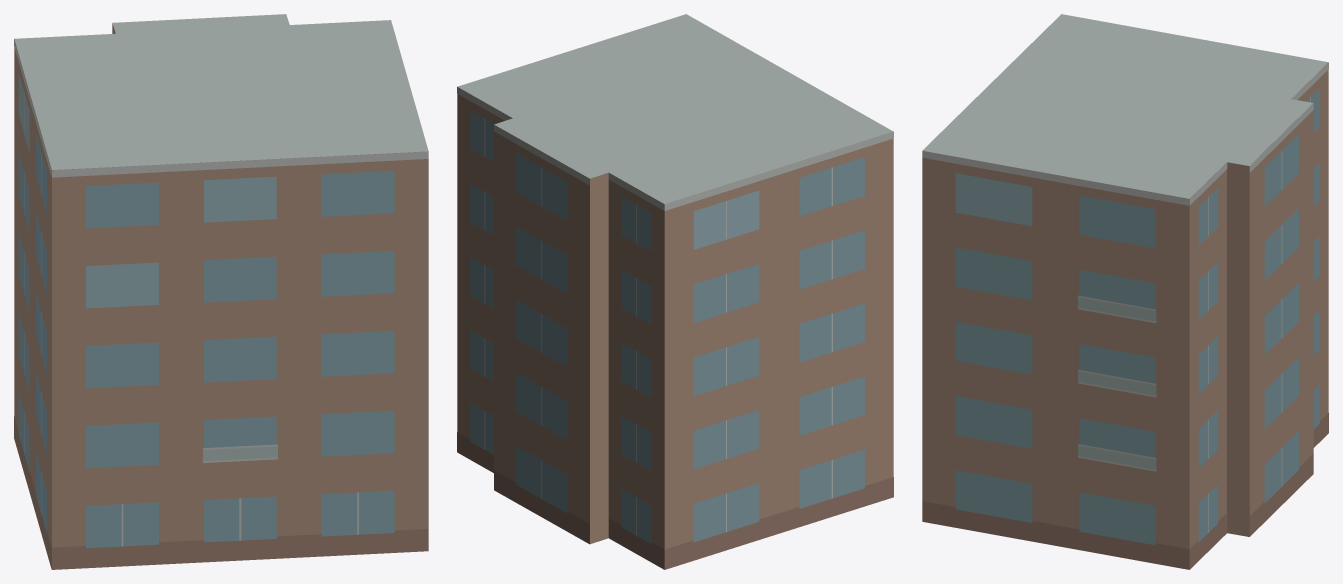
File: survey-upis-32669269.glb
3 renders of one model, left to right at view 1: azimuth 30°, elevation 25°; view 2: azimuth 150°, elevation 25°; view 3: azimuth 270°, elevation 25°, orthographic. The views are drawn at different scales.
Visible parts, largest first — view 1: survey-upis-32669269.tmp; view 2: survey-upis-32669269.tmp; view 3: survey-upis-32669269.tmp.
Part boxes in pixels (x1,y1,x2,y2): survey-upis-32669269.tmp: (14,14,428,569); survey-upis-32669269.tmp: (457,14,893,569); survey-upis-32669269.tmp: (922,14,1328,569).
Size of the model in its own units: 13.9 by 13 by 12.92.
